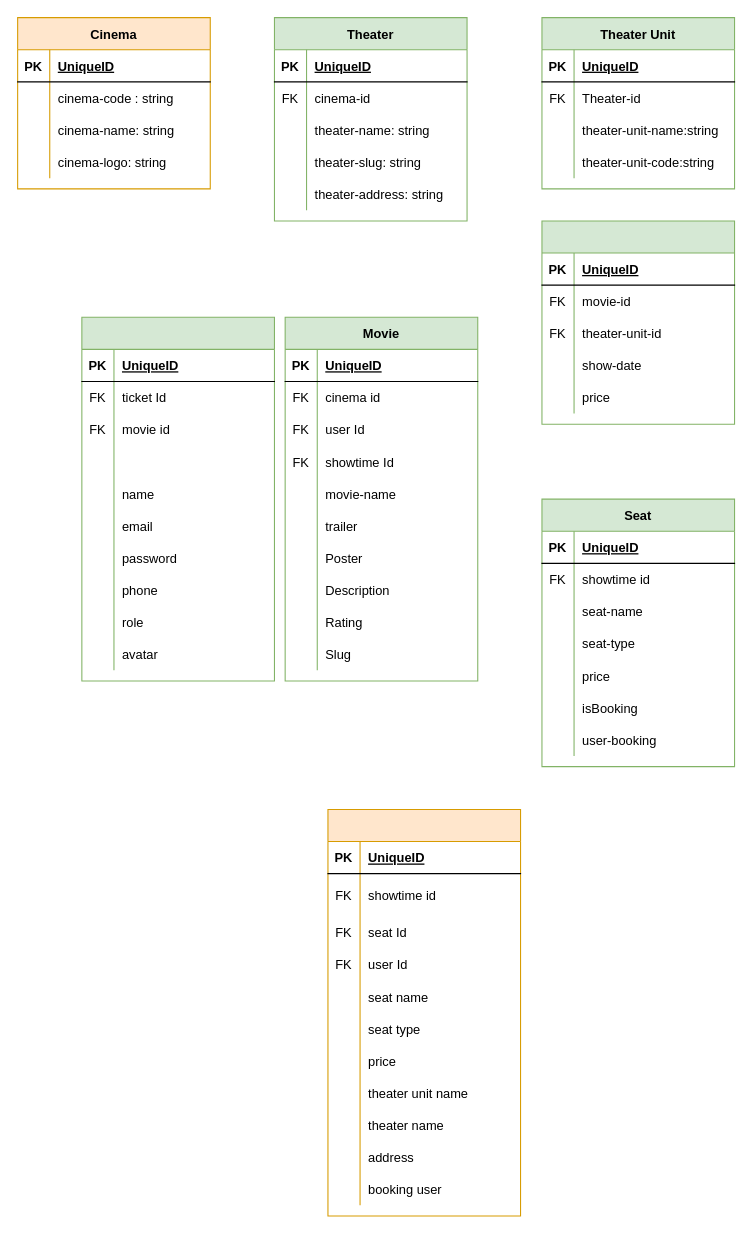
Image size: 752x1234. Some labels were removed from this diagram. The shapes that lost their labels are listed below. From the top down, each one's box as (x1, y1, x2, y2) in pixels, then its label:
(541, 220, 735, 424): Showtime
(81, 316, 274, 681): User
(327, 808, 521, 1216): Ticket
